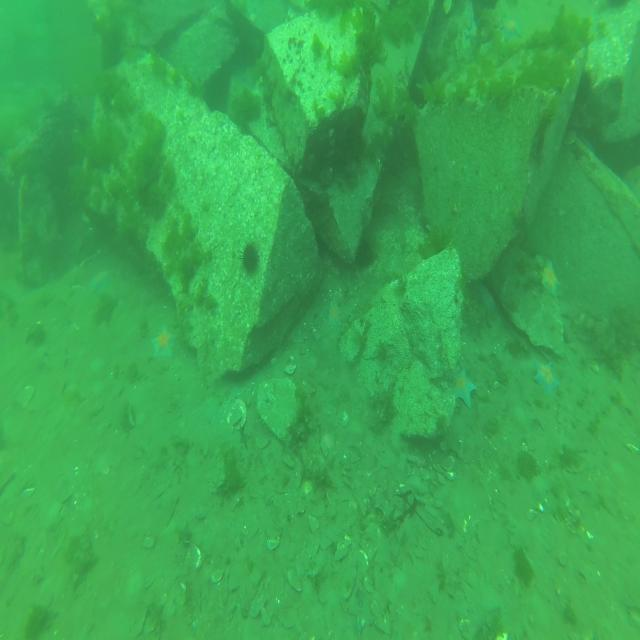echinus: (239, 240, 260, 277)
scallop: (441, 0, 456, 17)
starfish: (534, 356, 561, 397), (150, 324, 177, 363), (454, 367, 478, 410), (474, 279, 498, 316), (540, 257, 562, 296), (87, 268, 115, 294), (499, 15, 524, 44), (327, 302, 344, 330)
